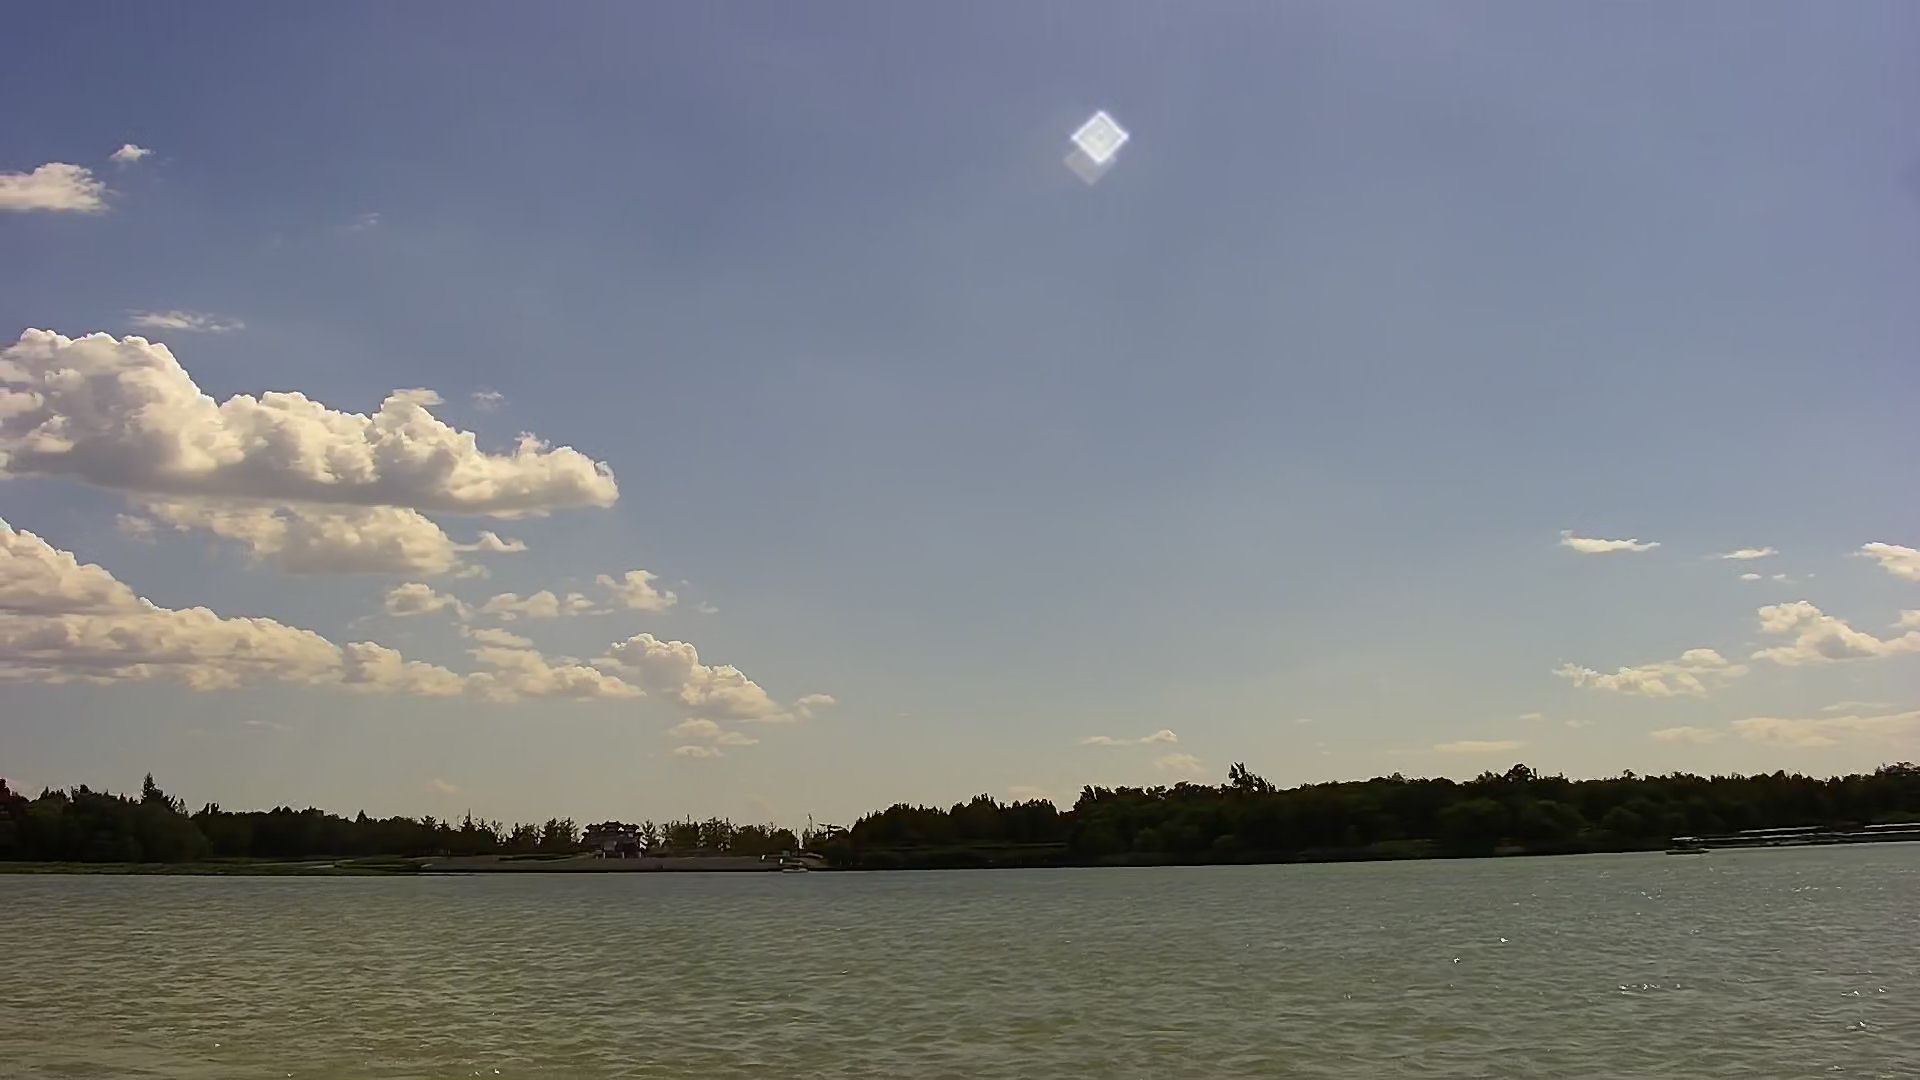boat: (1667, 829, 1700, 853)
harbor: (1717, 815, 1913, 851)
